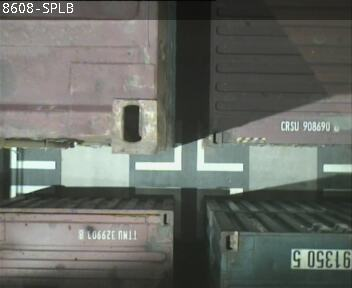groundmarker_1: (136, 188, 244, 239), (135, 120, 242, 171)
